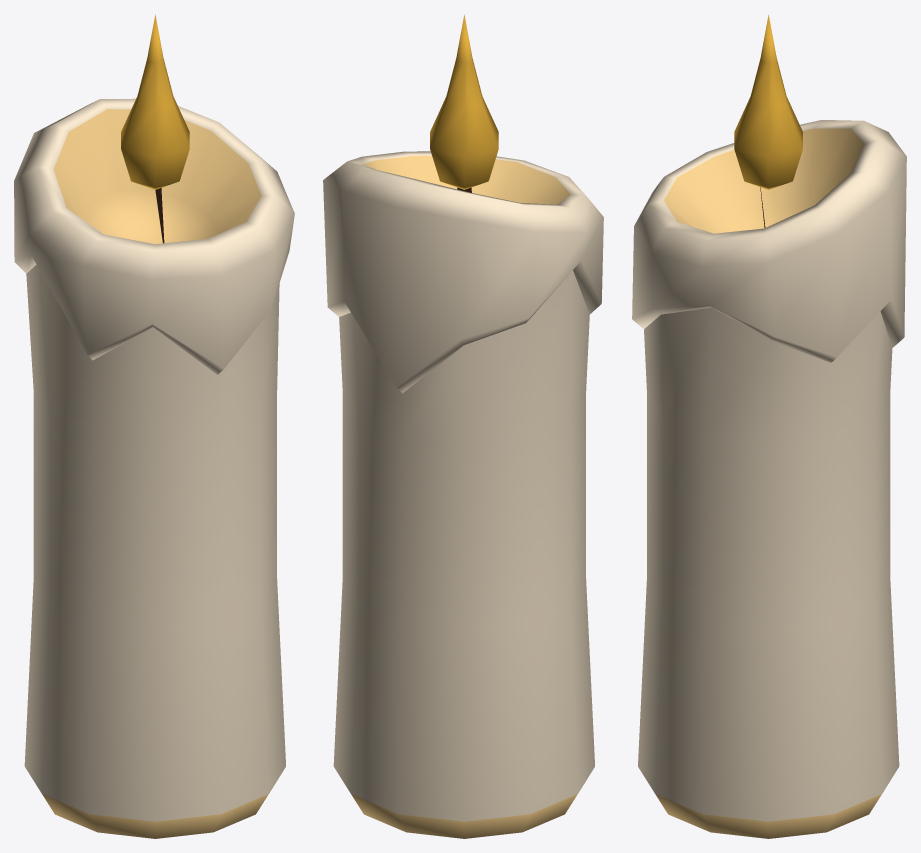
Rendered from Candle_2.fbx.
3 renders of one model, left to right at view 1: azimuth 30°, elevation 25°; view 2: azimuth 150°, elevation 25°; view 3: azimuth 270°, elevation 25°, orthographic.
Parts seen in each view (by area): view 1: Candle, Flame; view 2: Candle, Flame; view 3: Candle, Flame.
Part boxes in pixels (x1,y1,x2,y2): Candle: (14,98,294,838); Flame: (121,14,189,189); Candle: (323,151,603,838); Flame: (430,14,498,189); Candle: (632,120,906,838); Flame: (734,15,802,189).
Size of the model in its own units: 8.7 by 26.28 by 8.44.
